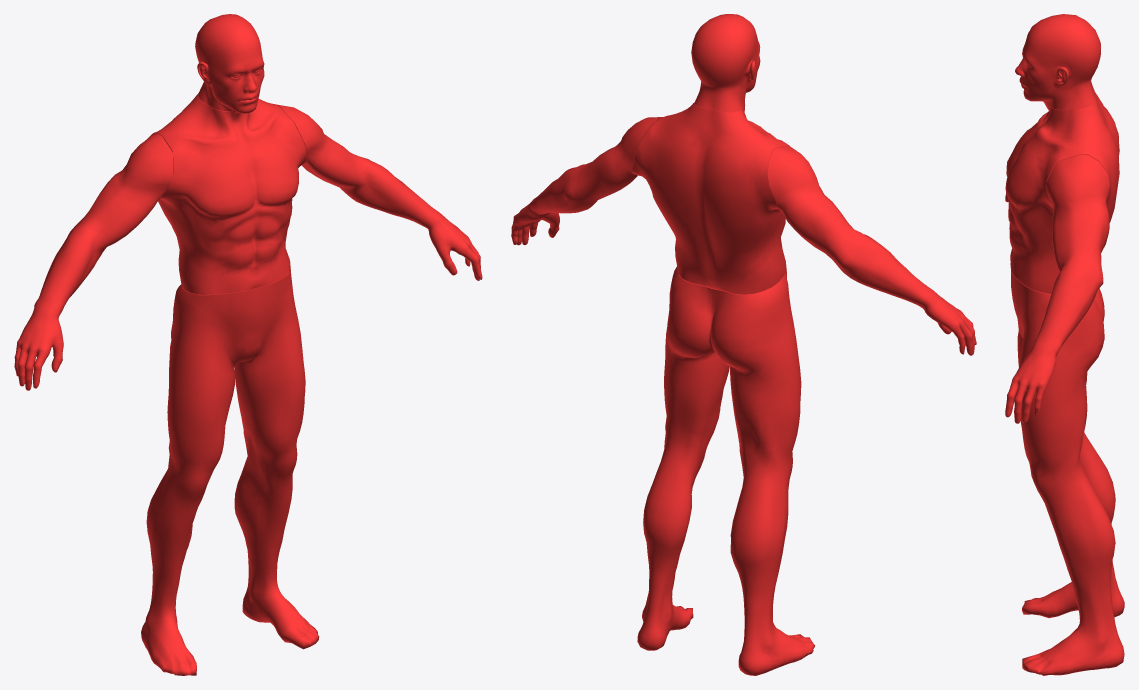
File: Mannequins_male_T-Pose_NoRigM.fbx
3 views of the same model, side by side, from view 1: azimuth 30°, elevation 25°; view 2: azimuth 150°, elevation 25°; view 3: azimuth 270°, elevation 25° (orthographic).
Visible parts, largest first — view 1: Mannequins_male_legs, Mannequins_male_body, Mannequins_male_rightHand, Mannequins_male_leftHand, Mannequins_male_head; view 2: Mannequins_male_legs, Mannequins_male_body, Mannequins_male_rightHand, Mannequins_male_leftHand, Mannequins_male_head; view 3: Mannequins_male_legs, Mannequins_male_leftHand, Mannequins_male_body, Mannequins_male_head.
Boxes of the visible parts, <box> form: Mannequins_male_legs: <box>141,272,319,675</box>; Mannequins_male_body: <box>149,93,306,294</box>; Mannequins_male_rightHand: <box>14,134,172,390</box>; Mannequins_male_leftHand: <box>277,104,482,280</box>; Mannequins_male_head: <box>195,14,264,113</box>; Mannequins_male_legs: <box>637,267,815,675</box>; Mannequins_male_body: <box>632,102,789,294</box>; Mannequins_male_rightHand: <box>768,146,976,355</box>; Mannequins_male_leftHand: <box>511,117,662,245</box>; Mannequins_male_head: <box>691,14,760,111</box>; Mannequins_male_legs: <box>1011,271,1124,675</box>; Mannequins_male_leftHand: <box>1005,155,1109,423</box>; Mannequins_male_body: <box>1005,93,1119,293</box>; Mannequins_male_head: <box>1015,14,1100,109</box>.
Bounding box in the file's own units: 331 × 435 × 75.23.
